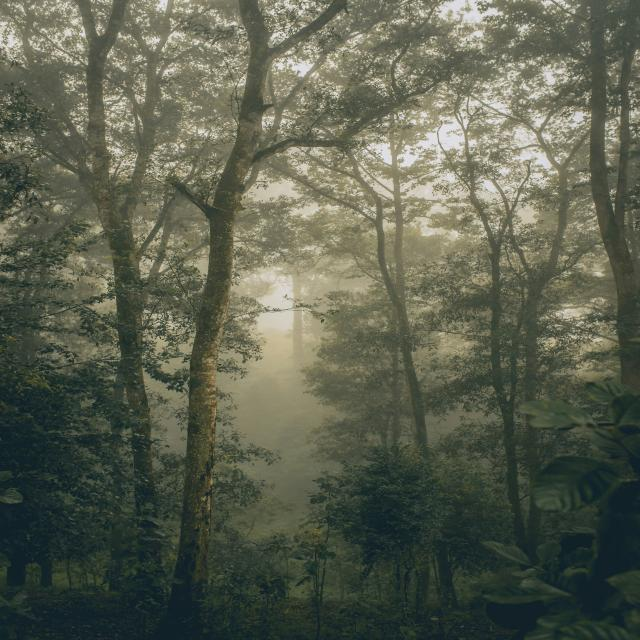Forest: (4, 30, 640, 640)
